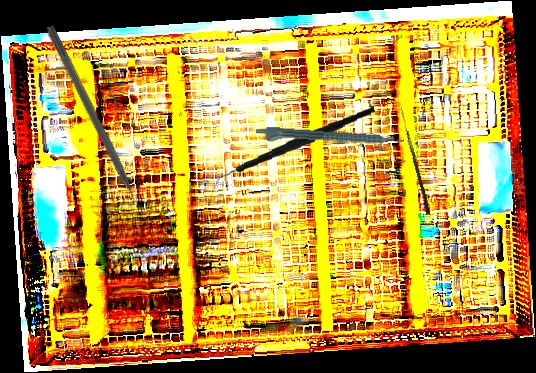Chopper: (207, 105, 380, 193)
Handpiece: (255, 125, 405, 153)
Hook Surgical: (395, 107, 433, 215)
Pusher: (43, 24, 149, 224)
